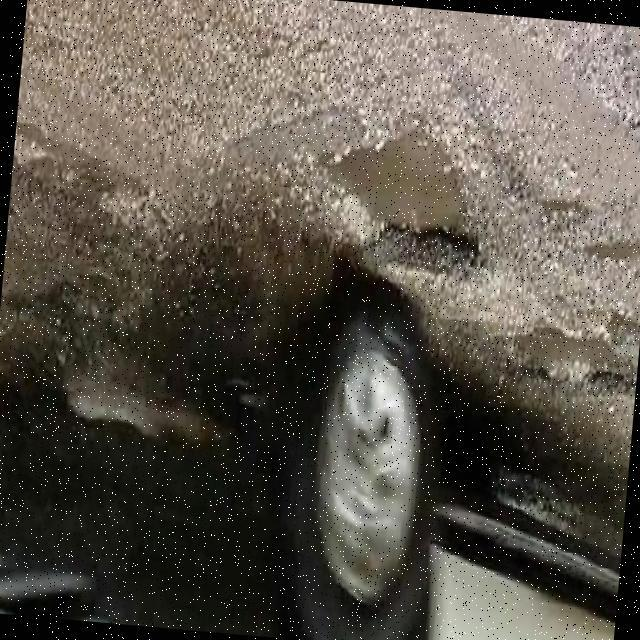Pothole: (341, 138, 479, 271), (509, 334, 634, 401)
